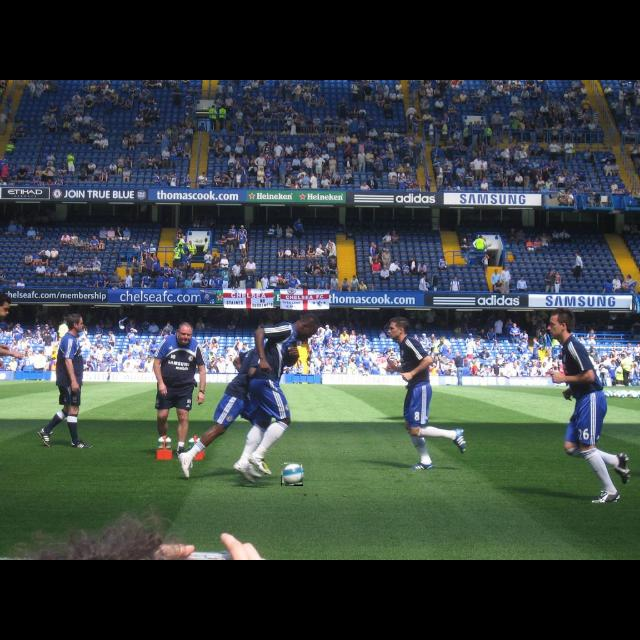Football: (281, 462, 303, 486)
